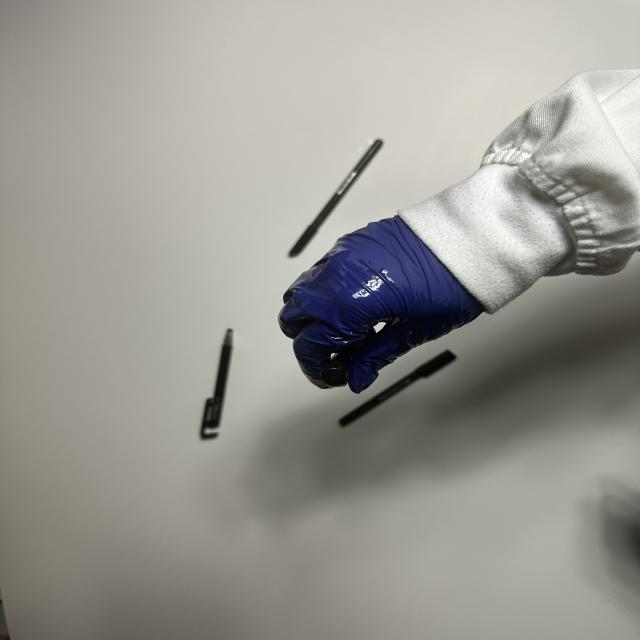gloves_contaminated: (278, 215, 484, 392)
